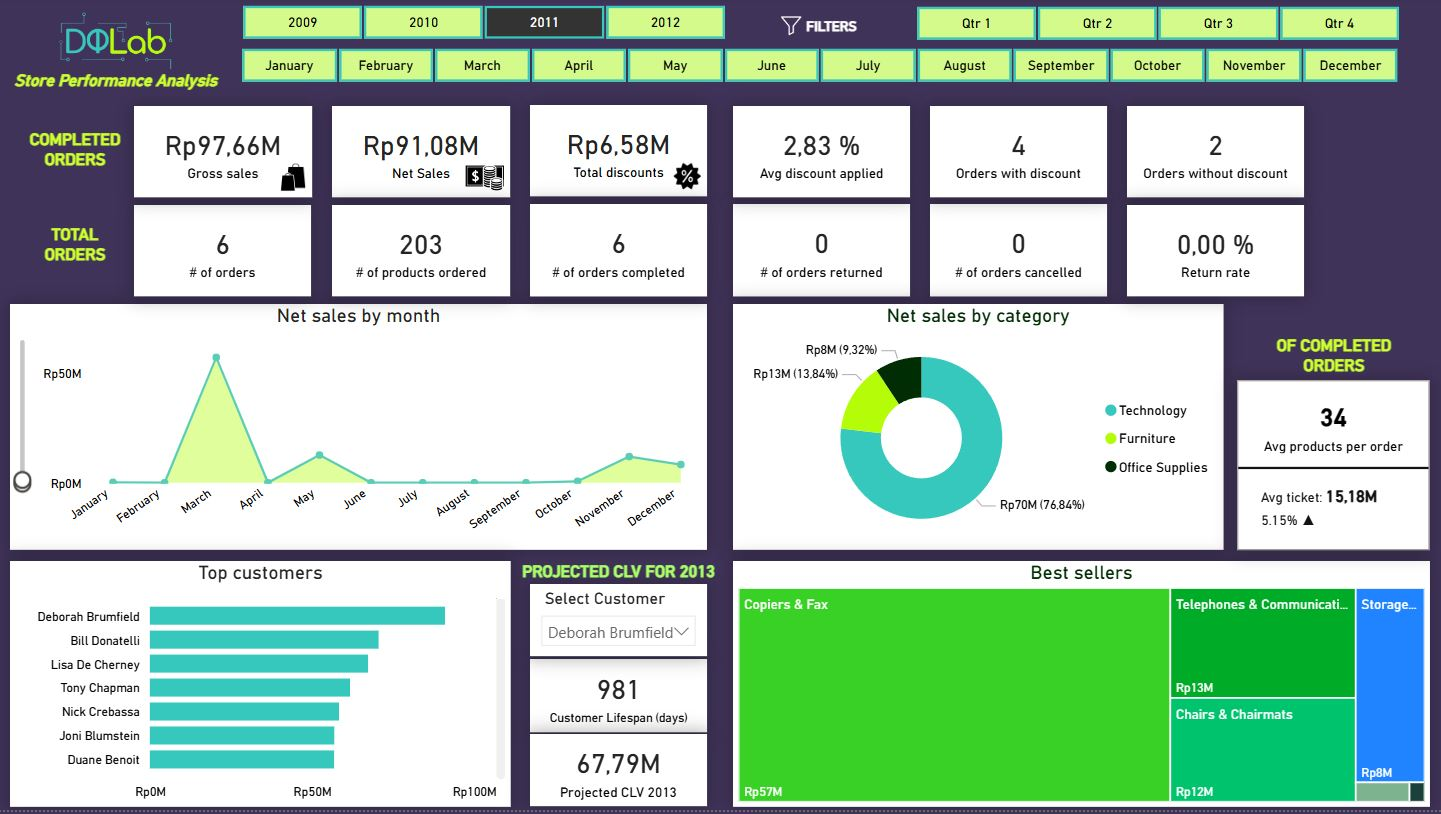

What the dashboard file says about the page in this screenshot:
{"tool":"powerbi","page":{"name":"DQLab Sales Analysis","canvas":[1280,720],"ordinal":0},"visuals":[{"type":"card","fields":{"Values":["clean_data.Net Sales"]},"box":[296.1,95.8,157.8,80.7],"z":0},{"type":"card","fields":{"Values":["clean_data.Suma Descuentos"]},"box":[471.6,95.8,156.9,80.7],"z":1000},{"type":"slicer","fields":{"Values":["Calendar.Date.Variation.Date Hierarchy.Quarter"]},"box":[789.2,0.9,476.9,39],"z":2000},{"type":"slicer","fields":{"Values":["Calendar.Date.Variation.Date Hierarchy.Year"]},"box":[191.5,0,476.9,38.1],"z":3000},{"type":"areaChart","title":"Net sales by month","fields":{"Y":["Sum(clean_data.sales)"],"Category":["Calendar.Date.Variation.Date Hierarchy.Month"]},"box":[10.2,271.4,618.2,218.4],"z":4000},{"type":"card","fields":{"Values":["clean_data.Total Orders"]},"box":[131.1,183.1,146.9,80.9],"z":5000},{"type":"card","fields":{"Values":["clean_data.# of Orders Completed"]},"box":[471.6,182.7,156.9,81.6],"z":6000},{"type":"card","fields":{"Values":["clean_data.# of Orders Returned"]},"box":[651.6,182.7,156.9,81.6],"z":7000},{"type":"card","fields":{"Values":["clean_data.# of Orders Cancelled"]},"box":[826.3,182.7,156.9,81.6],"z":8000},{"type":"card","fields":{"Values":["clean_data.Avg Discount Applied"]},"box":[651.6,95.8,156.9,80.7],"z":9000},{"type":"image","box":[27.9,8.4,154.3,60.4],"z":10000},{"type":"donutChart","title":"Net sales by category","fields":{"Category":["clean_data.product_category"],"Y":["Sum(clean_data.sales)"]},"box":[651.6,271.4,435,218.4],"z":11000},{"type":"treemap","title":"Best sellers","fields":{"Group":["clean_data.product_sub_category"],"Values":["Sum(clean_data.sales)"]},"box":[651.6,499.2,618.2,218.4],"z":12000},{"type":"clusteredBarChart","title":"Top customers","fields":{"Category":["clean_data.customer"],"Y":["Sum(clean_data.sales)"]},"box":[10.2,499.2,444.3,218.4],"z":13000},{"type":"cardVisual","fields":{"Data":["clean_data.Product Ticket Medio"]},"box":[1098.7,304.9,171,151.5],"z":14000},{"type":"card","fields":{"Values":["clean_data.Total Products Ordered"]},"box":[296.5,183.1,158,80.9],"z":15000},{"type":"card","fields":{"Values":["clean_data.gross_sales"]},"box":[131.1,95.8,147.2,80.7],"z":16000},{"type":"image","box":[414.6,136.6,39,44.6],"z":17000},{"type":"image","box":[593.1,141.3,35.3,34.4],"z":18000},{"type":"image","box":[236,178.4,42.8,47.3],"z":19000},{"type":"slicer","fields":{"Values":["Calendar.Date.Variation.Date Hierarchy.Month"]},"box":[191,38.2,1074.4,41.8],"z":20000},{"type":"textbox","box":[689.6,10.9,98.3,42.8],"z":21000},{"type":"card","fields":{"Values":["clean_data.Discount Orders"]},"box":[826.3,95.8,156.9,80.7],"z":22000},{"type":"image","box":[685.9,10.9,33.7,28.2],"z":23000},{"type":"card","fields":{"Values":["clean_data.No Discount Orders"]},"box":[1001.1,95.7,157.1,80.9],"z":24000},{"type":"card","fields":{"Values":["clean_data.Return Rate"]},"box":[1001.1,183.1,157.1,80.9],"z":25000},{"type":"card","fields":{"Values":["clean_data.Avg Customer Lifespan"]},"box":[471.3,586.6,157.1,64.1],"z":26000},{"type":"card","fields":{"Values":["clean_data.CLV"]},"box":[471.3,653.5,157.1,64.1],"z":27000},{"type":"textbox","box":[0,59.5,209.2,40.9],"z":28000},{"type":"slicer","fields":{"Values":["clean_data.customer"]},"box":[471.3,519.6,157.1,64.1],"z":29000},{"type":"textbox","box":[451.8,495.5,196.1,40.9],"z":30000}]}

Visuals, with their boxes in screenshot pixels (x1, y1, x2, y2), scaled from the page's 1280x720 canvas onto the 1441x814 screenshot:
card - clean_data.Net Sales: 333,108,511,200
card - clean_data.Suma Descuentos: 531,108,708,200
slicer - Calendar.Date.Variation.Date Hierarchy.Quarter: 888,1,1425,45
slicer - Calendar.Date.Variation.Date Hierarchy.Year: 216,0,752,43
"Net sales by month" areaChart: 11,307,707,554
card - clean_data.Total Orders: 148,207,313,298
card - clean_data.# of Orders Completed: 531,207,708,299
card - clean_data.# of Orders Returned: 734,207,910,299
card - clean_data.# of Orders Cancelled: 930,207,1107,299
card - clean_data.Avg Discount Applied: 734,108,910,200
image: 31,9,205,78
"Net sales by category" donutChart: 734,307,1223,554
"Best sellers" treemap: 734,564,1430,811
"Top customers" clusteredBarChart: 11,564,512,811
cardVisual - clean_data.Product Ticket Medio: 1237,345,1429,516
card - clean_data.Total Products Ordered: 334,207,512,298
card - clean_data.gross_sales: 148,108,313,200
image: 467,154,511,205
image: 668,160,707,199
image: 266,202,314,255
slicer - Calendar.Date.Variation.Date Hierarchy.Month: 215,43,1425,90
textbox: 776,12,887,61
card - clean_data.Discount Orders: 930,108,1107,200
image: 772,12,810,44
card - clean_data.No Discount Orders: 1127,108,1304,200
card - clean_data.Return Rate: 1127,207,1304,298
card - clean_data.Avg Customer Lifespan: 531,663,707,736
card - clean_data.CLV: 531,739,707,811
textbox: 0,67,236,114
slicer - clean_data.customer: 531,587,707,660
textbox: 509,560,729,606
